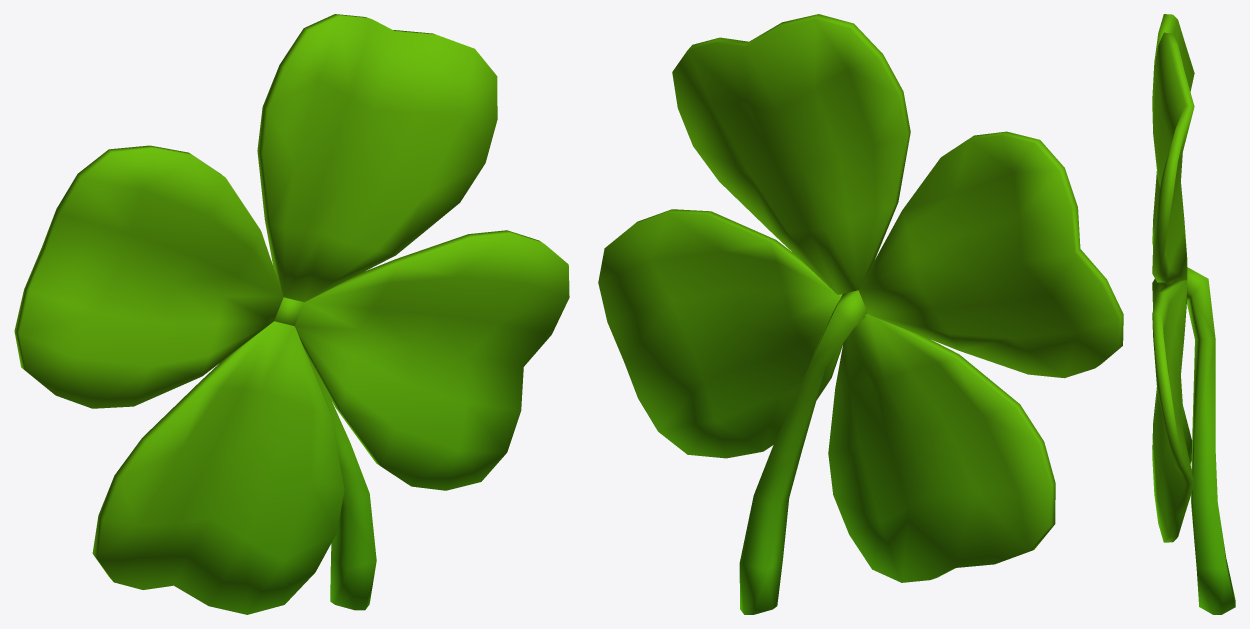
The model's file is CloverNight.glb.
The picture shows the model from 3 angles, left to right: view 1: azimuth 30°, elevation 25°; view 2: azimuth 150°, elevation 25°; view 3: azimuth 270°, elevation 25°; orthographic projection. The views are drawn at different scales.
Parts seen in each view (by area): view 1: CloverNight; view 2: CloverNight; view 3: CloverNight.
Part boxes in pixels (left/top/right/bottom): CloverNight: left=14, top=14, right=569, bottom=614; CloverNight: left=598, top=14, right=1123, bottom=614; CloverNight: left=1152, top=14, right=1235, bottom=614.
Bounding box in the file's own units: 0.4512 × 0.4856 × 0.067.
1 material, 1 textured.
